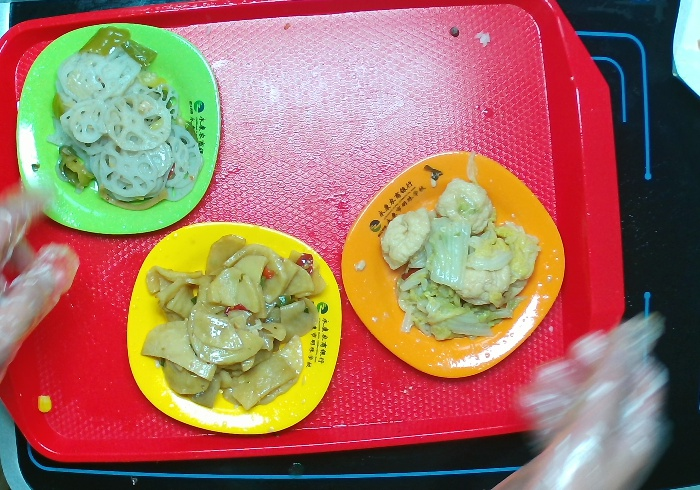YKMZ-Huang_Se_Fang_Die: (125, 220, 344, 435)
YKMZ-Ju_Se_Fang_Die: (339, 149, 567, 379)
YKMZ-Lv_Se_Fang_Die: (14, 21, 223, 235)
